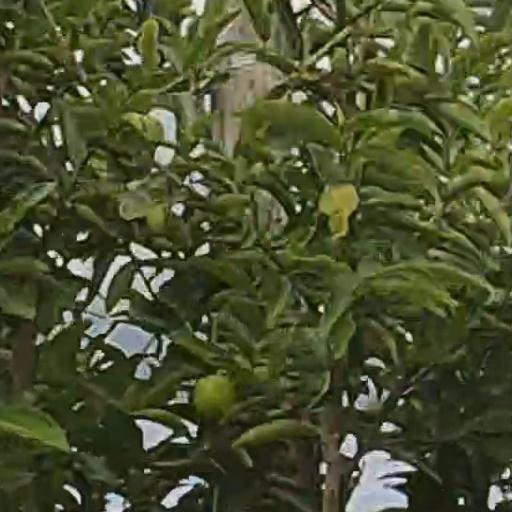acerola: (192, 373, 231, 420)
